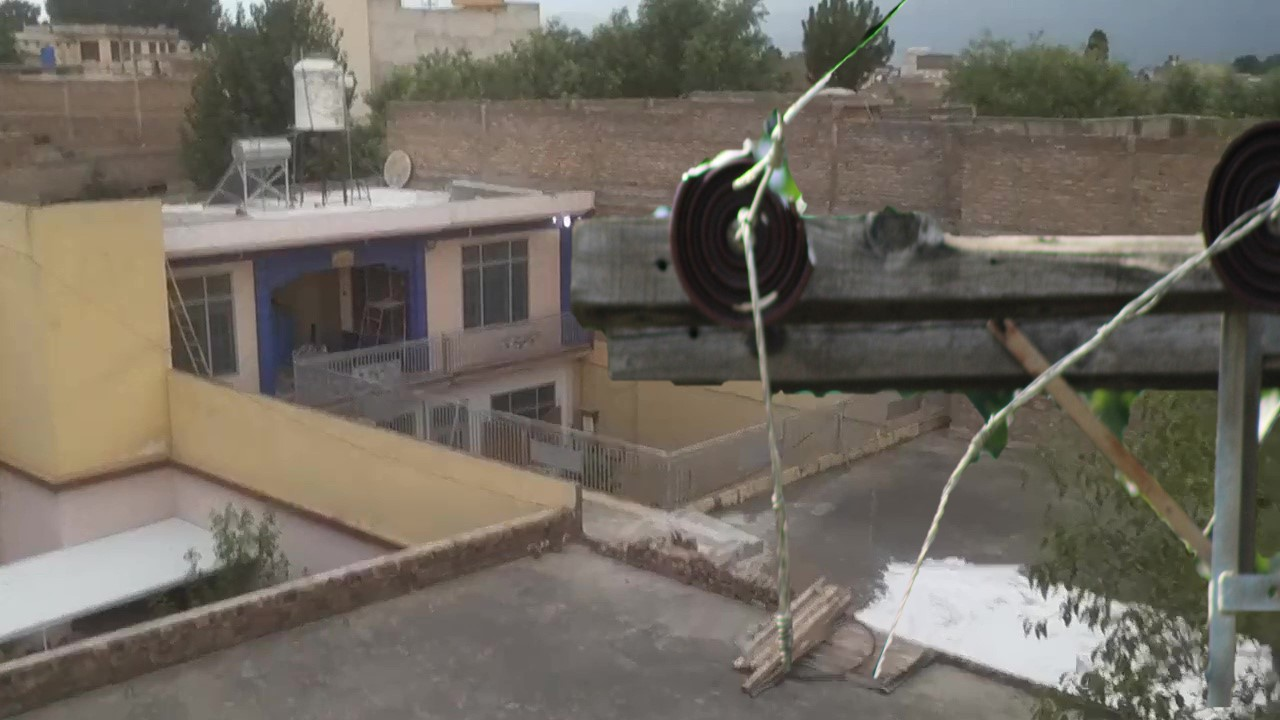defect_disc: (668, 138, 824, 339)
